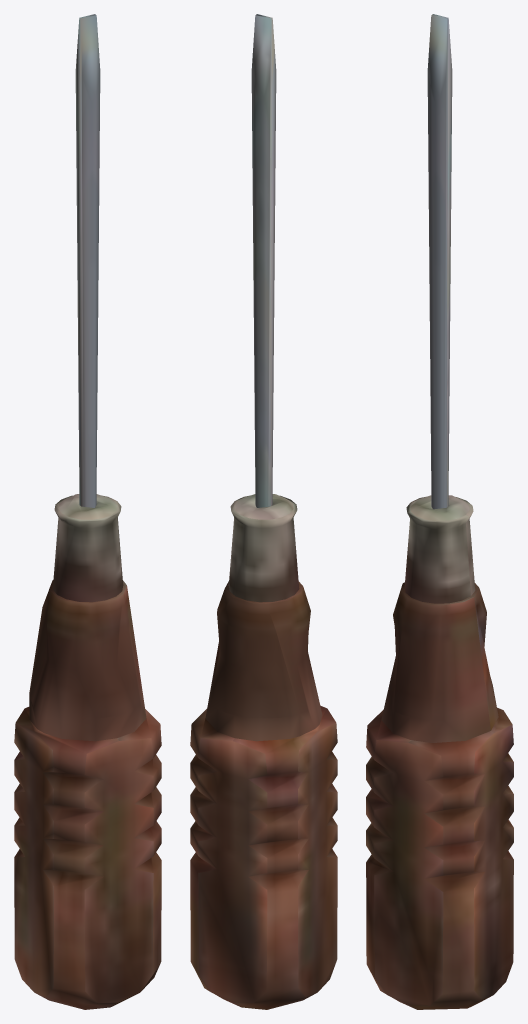
3 views of the same model, side by side, from view 1: azimuth 30°, elevation 25°; view 2: azimuth 150°, elevation 25°; view 3: azimuth 330°, elevation 25° (orthographic).
Parts seen in each view (by area): view 1: flathead_screwdriver; view 2: flathead_screwdriver; view 3: flathead_screwdriver.
Boxes of the visible parts, left/top/right/bottom form: flathead_screwdriver: left=14, top=14, right=161, bottom=1009; flathead_screwdriver: left=190, top=14, right=337, bottom=1009; flathead_screwdriver: left=366, top=14, right=513, bottom=1009.
Size of the model in its own units: 0.03 by 0.2613 by 0.03.
Materials: 1 (1 with a texture image).
